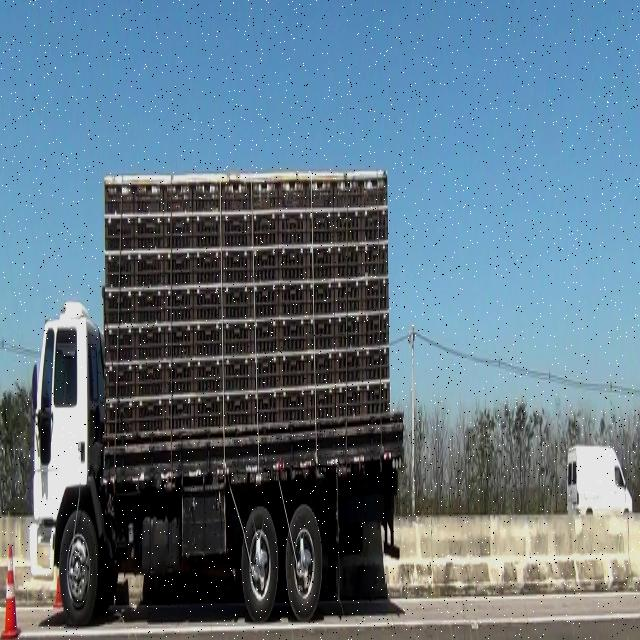-axle: (240, 503, 279, 623), (59, 509, 96, 623), (285, 506, 321, 617)
